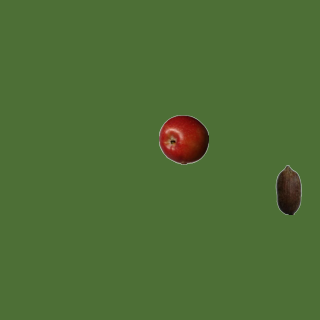Apple Braeburn: (158, 114, 208, 164)
Nut Pecan: (263, 164, 313, 214)
